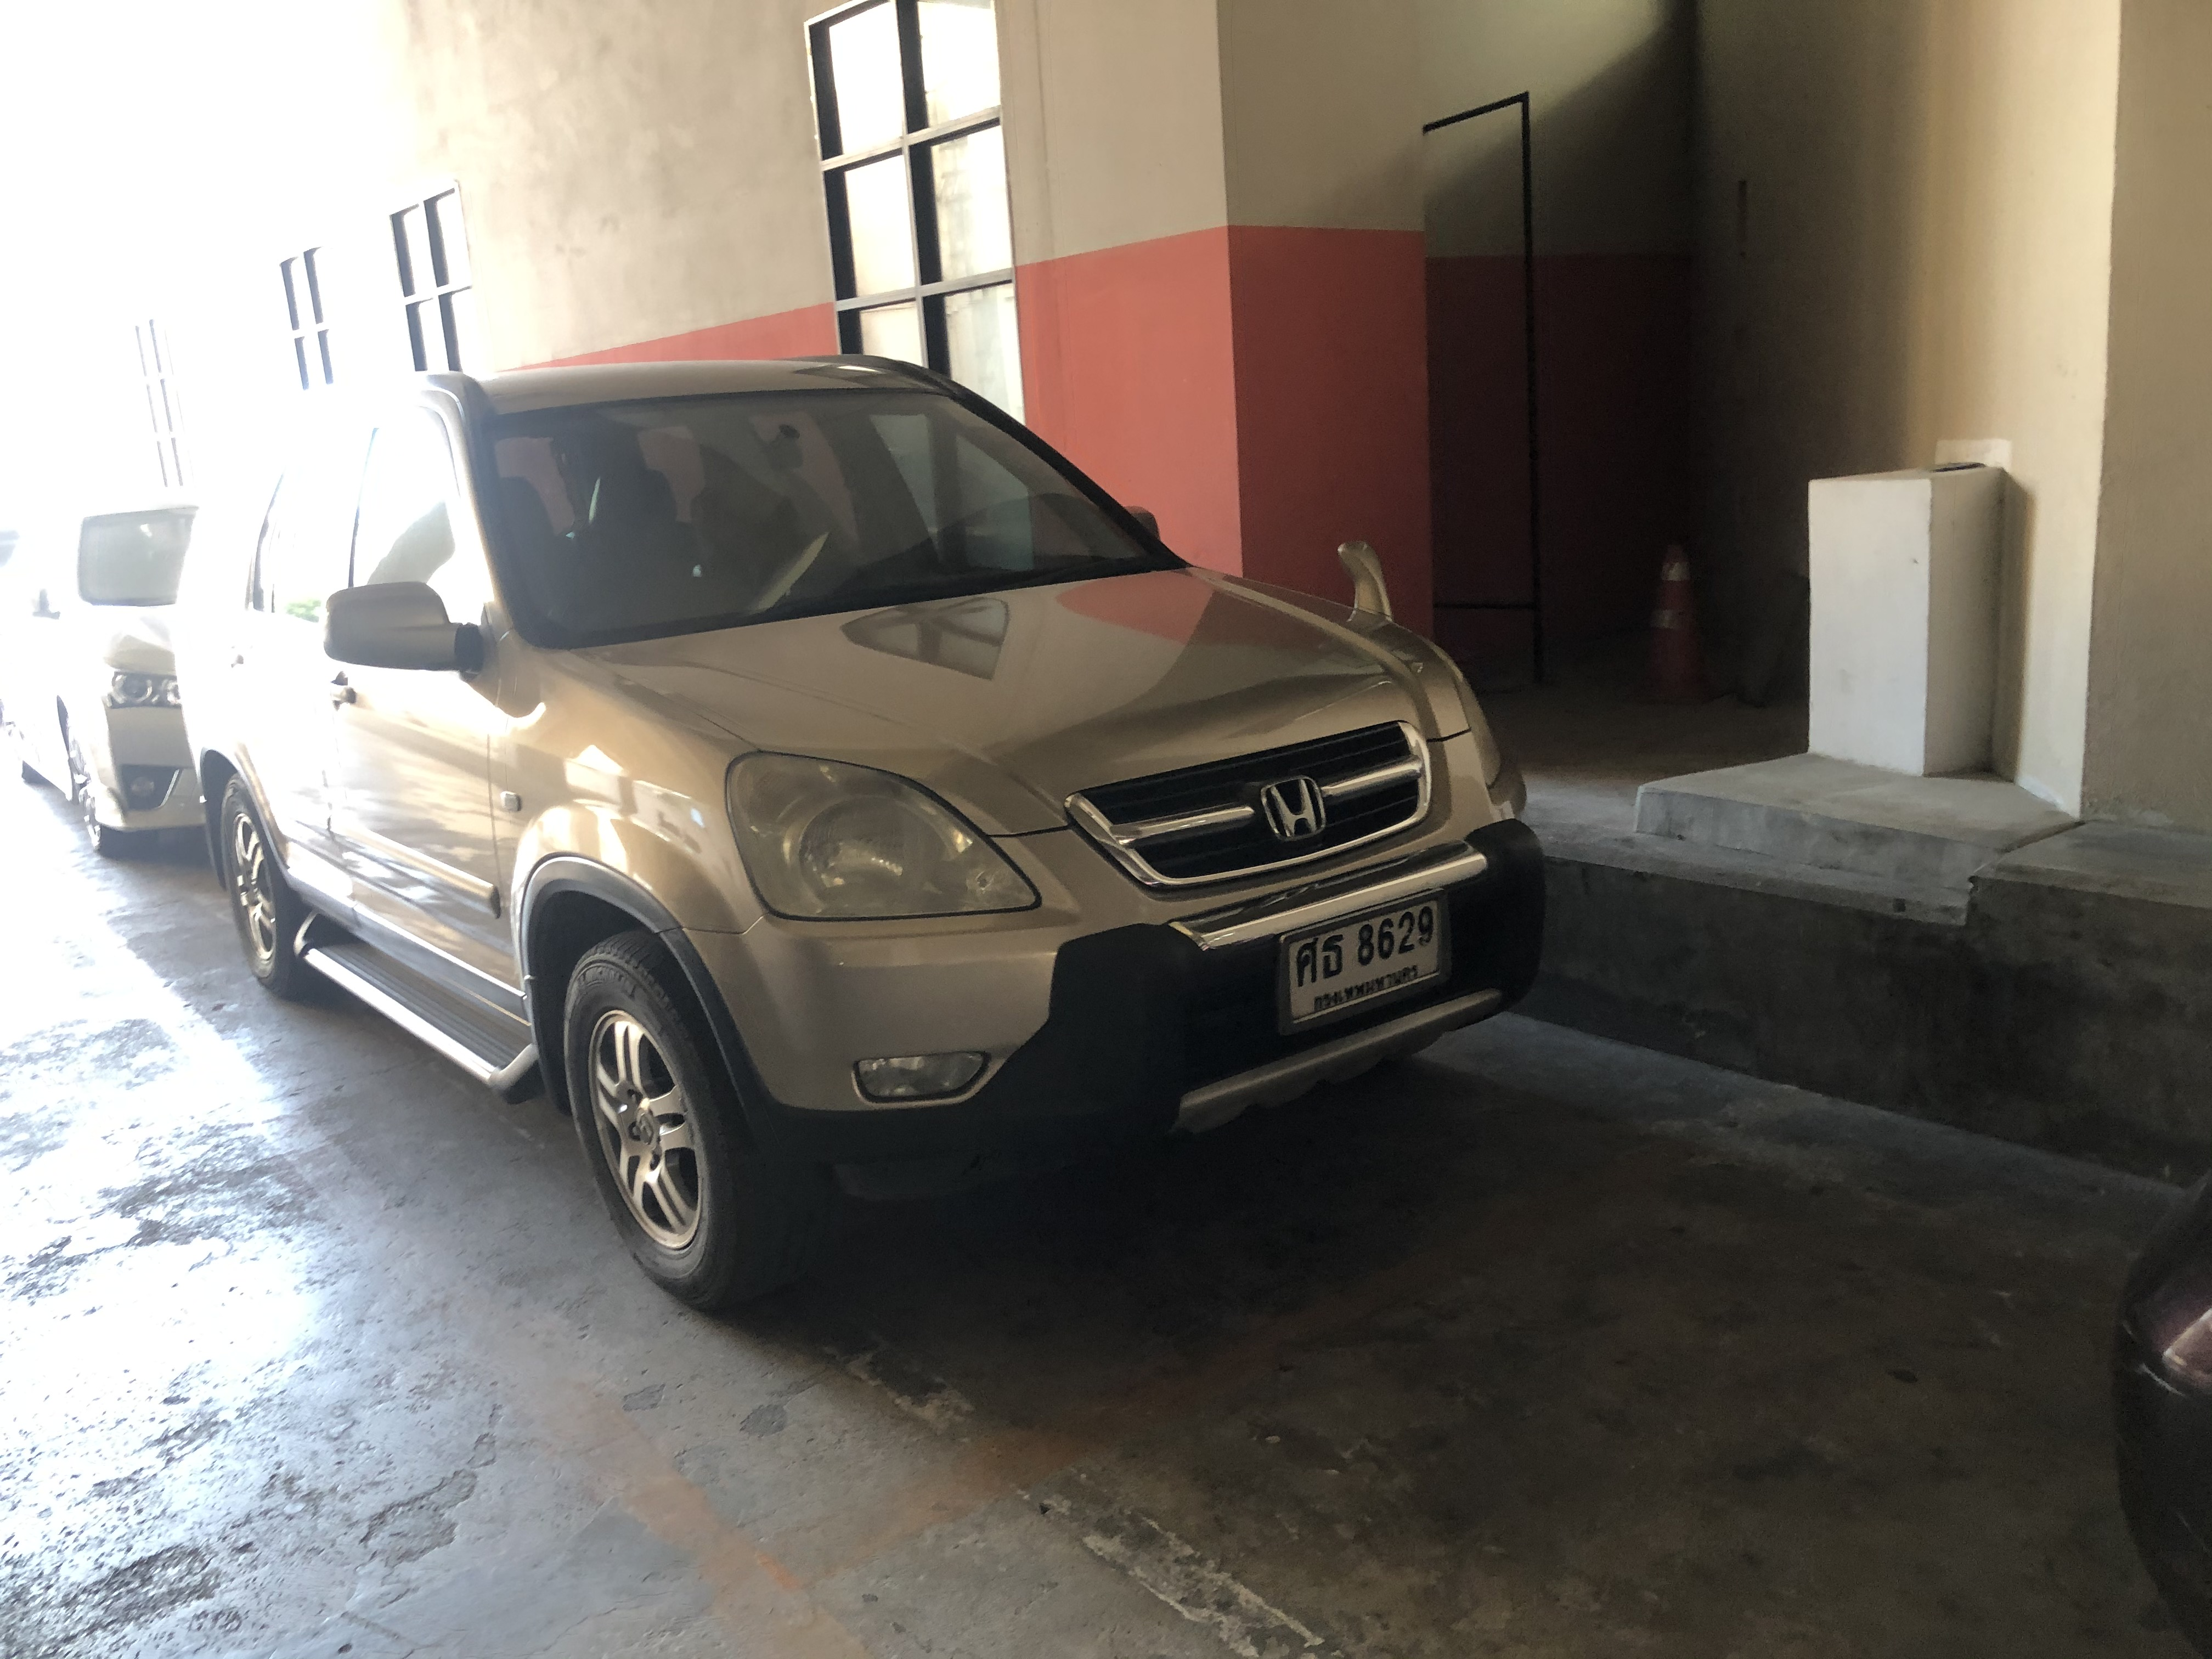in: (1289, 894, 1444, 1021)
out: (1280, 882, 1453, 1039)
